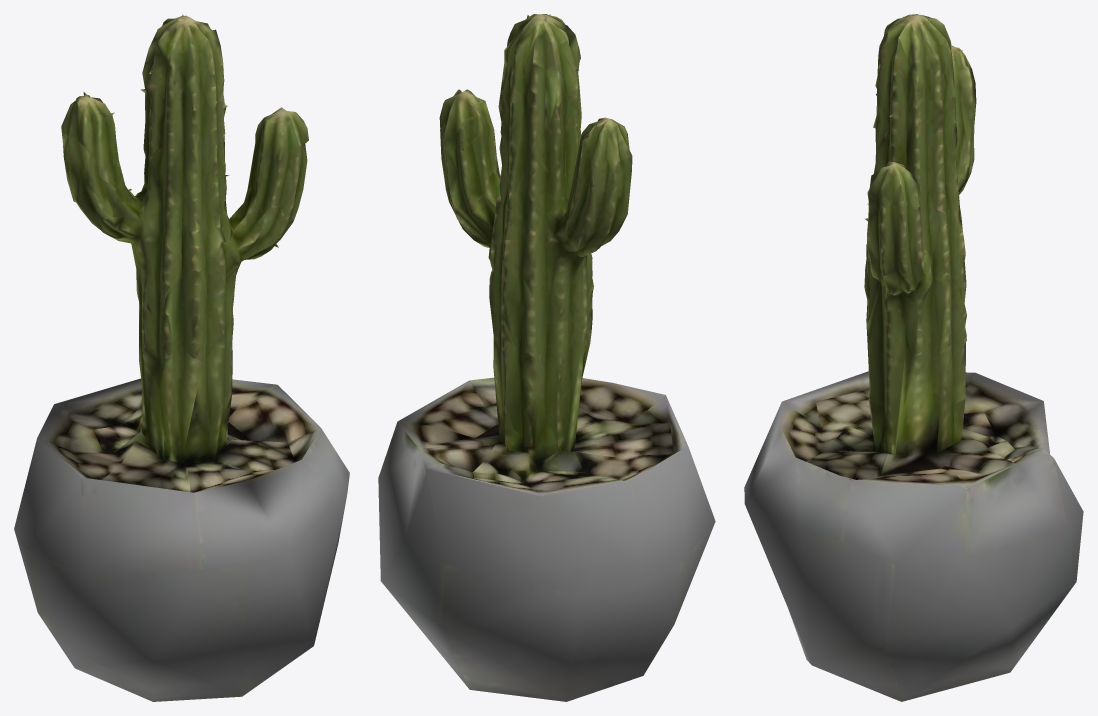
The model's file is cactus.lod2.glb.
The picture shows the model from 3 angles, left to right: view 1: azimuth 30°, elevation 25°; view 2: azimuth 150°, elevation 25°; view 3: azimuth 270°, elevation 25°; orthographic projection.
Parts seen in each view (by area): view 1: tripo_node_db04446c-8393-4553-afaf-8690135746d2; view 2: tripo_node_db04446c-8393-4553-afaf-8690135746d2; view 3: tripo_node_db04446c-8393-4553-afaf-8690135746d2.
Boxes of the visible parts, bbox=[...] form: tripo_node_db04446c-8393-4553-afaf-8690135746d2: bbox=[14, 14, 349, 701]; tripo_node_db04446c-8393-4553-afaf-8690135746d2: bbox=[378, 14, 715, 701]; tripo_node_db04446c-8393-4553-afaf-8690135746d2: bbox=[744, 14, 1083, 701].
Size of the model in its own units: 0.4501 by 0.9459 by 0.4493.
1 material, 1 textured.
